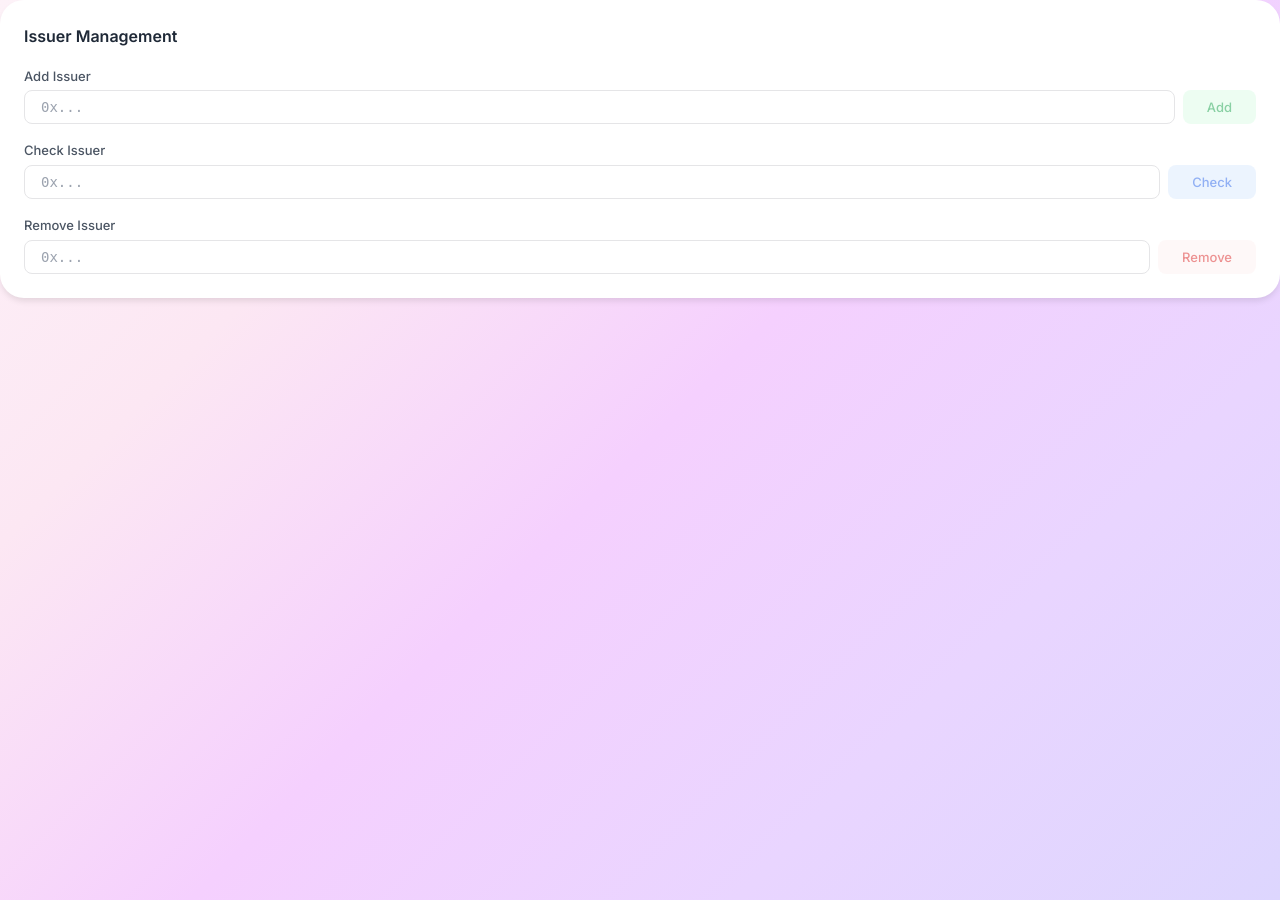
Test: IssuerManagement › Add Issuer › shows success message on successful add
Step 1. Type "0x1234567890123456789012345678901234567890" into the field with placeholder "0x..." below "Add Issuer" → (599, 107), box [24,90,1175,124]
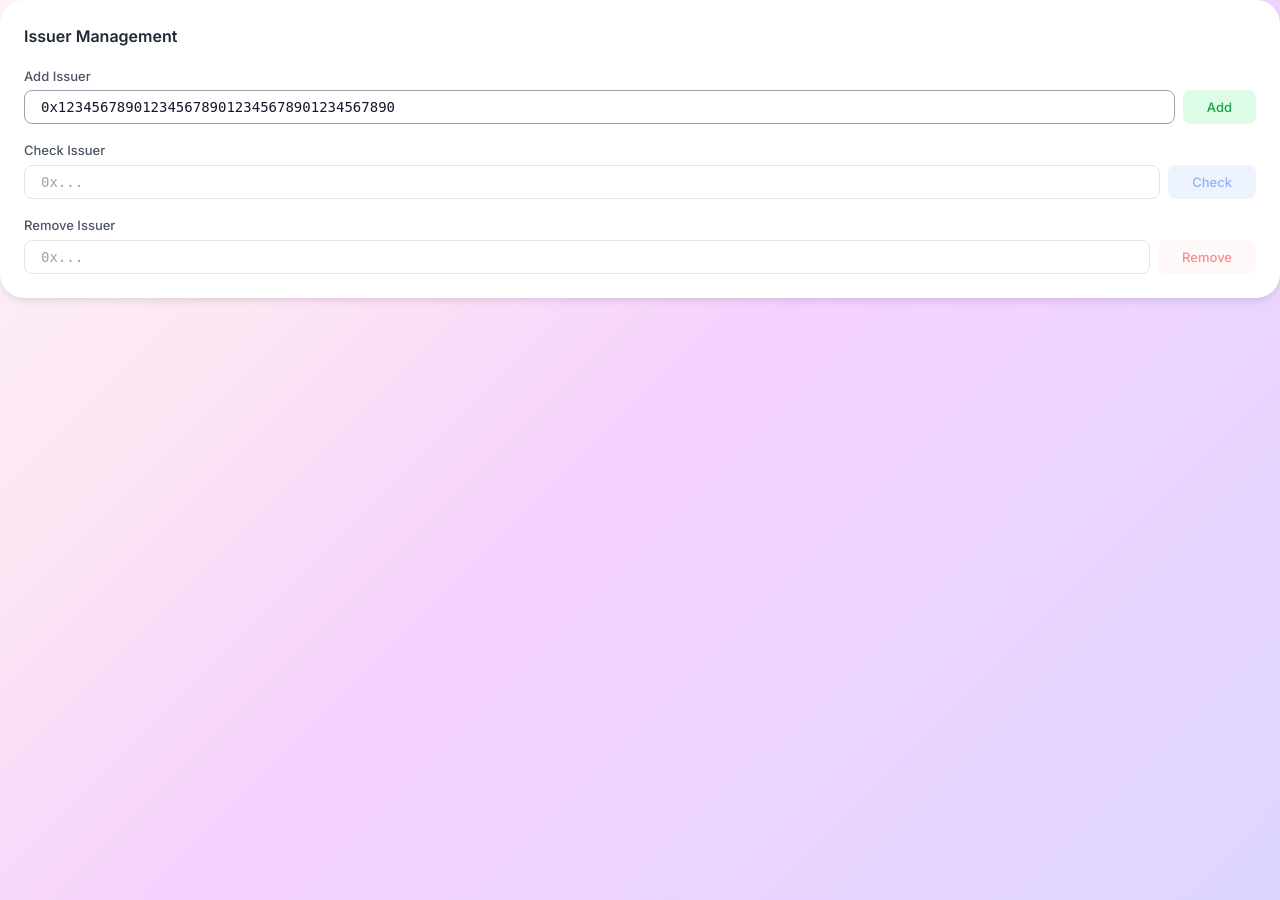
Step 2. Click the button "Add" → (1219, 107), box [1183,90,1256,124]
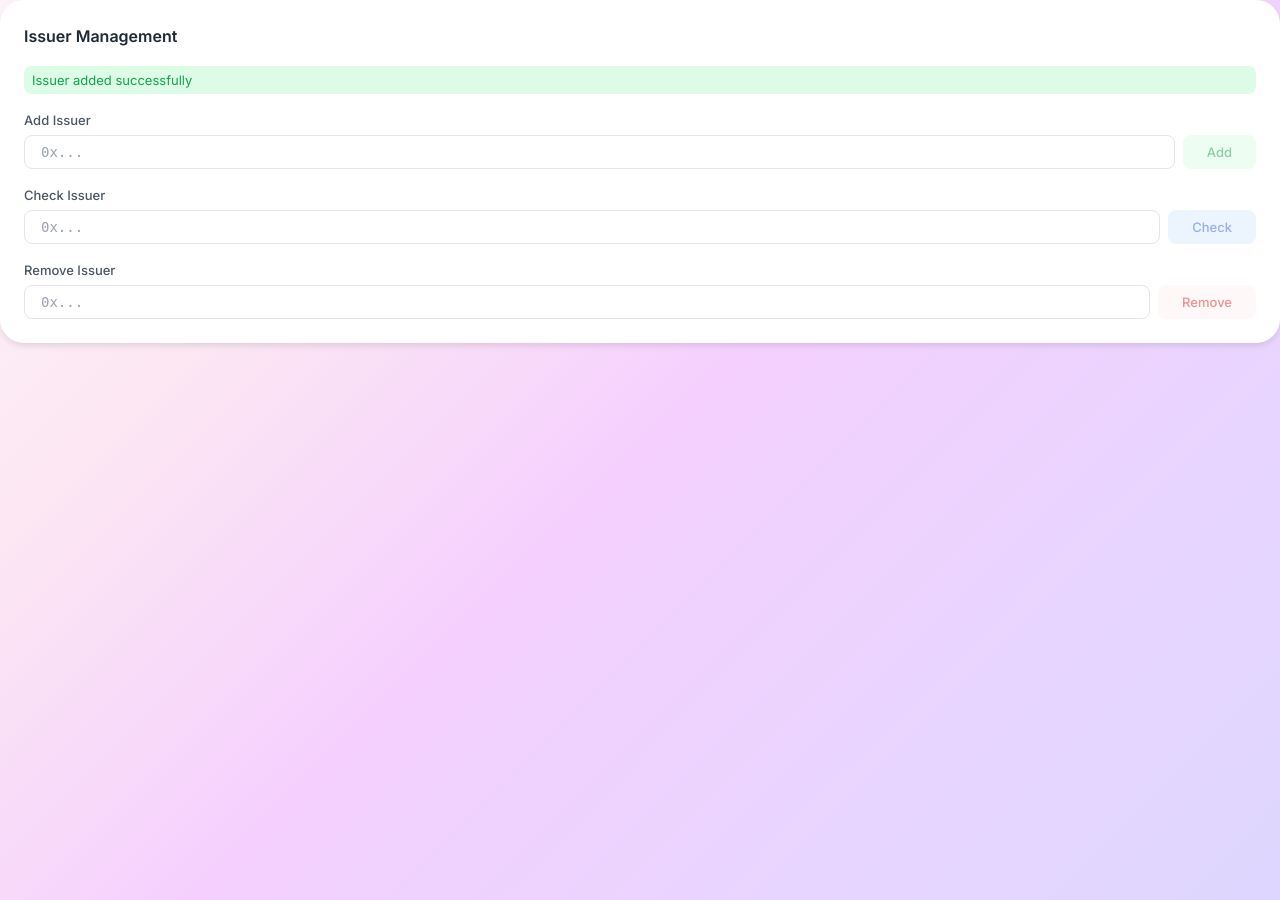
Result: the text "Issuer added successfully" is shown at [24,66,1256,94]
